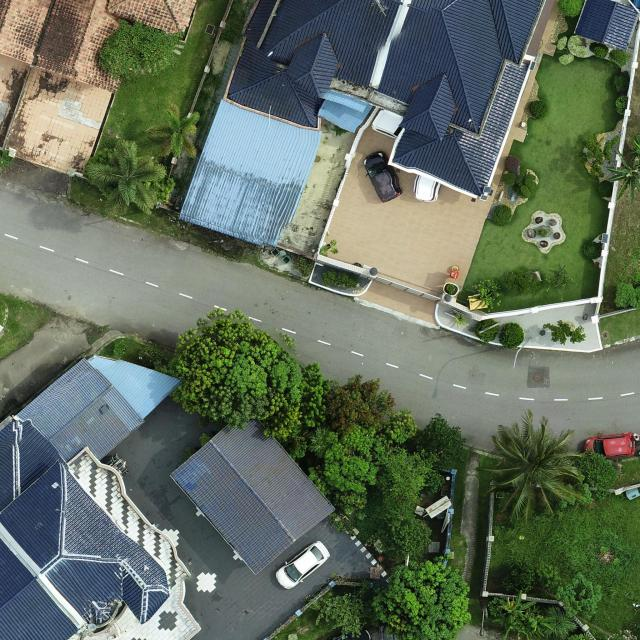Tree: (173, 306, 302, 430), (475, 408, 584, 527), (369, 559, 471, 640), (85, 138, 168, 215), (98, 19, 184, 81), (322, 424, 393, 494), (374, 446, 441, 520), (324, 374, 396, 434), (144, 102, 201, 158), (414, 412, 466, 472), (365, 514, 433, 556), (309, 592, 365, 640), (575, 446, 618, 501), (492, 590, 538, 640), (555, 572, 601, 621), (606, 148, 640, 205), (578, 132, 620, 178), (541, 605, 579, 640), (383, 408, 418, 445), (545, 261, 577, 301), (466, 278, 502, 312), (501, 560, 537, 594), (542, 320, 586, 346), (306, 422, 335, 460), (516, 605, 556, 632), (504, 272, 542, 296), (498, 322, 525, 349), (536, 563, 560, 592), (474, 318, 499, 344), (614, 282, 637, 308), (581, 240, 602, 260), (628, 135, 640, 160), (452, 312, 468, 328)
